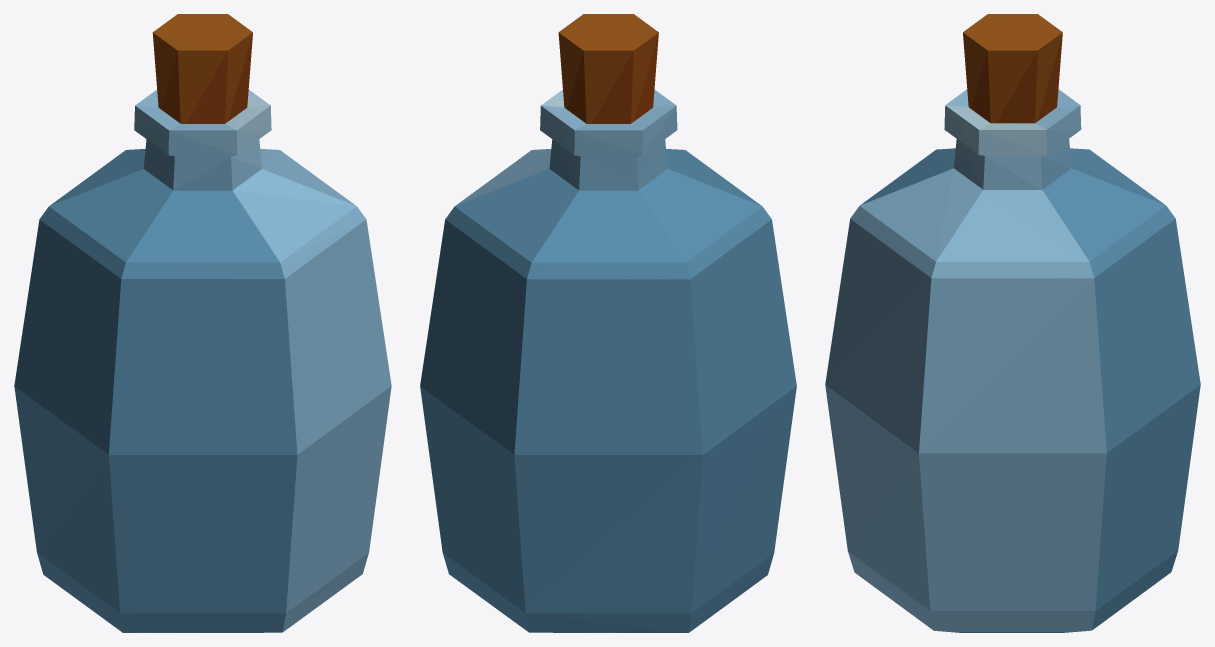
The model's file is prop_bottle_potion_empty_2.fbx.
3 views of the same model, side by side, from view 1: azimuth 30°, elevation 25°; view 2: azimuth 150°, elevation 25°; view 3: azimuth 270°, elevation 25° (orthographic).
Parts seen in each view (by area): view 1: prop_bottle_potion_empty_2; view 2: prop_bottle_potion_empty_2; view 3: prop_bottle_potion_empty_2.
Boxes of the visible parts, x1,y1,x2,y2 form: prop_bottle_potion_empty_2: (14, 14, 391, 632); prop_bottle_potion_empty_2: (420, 14, 796, 632); prop_bottle_potion_empty_2: (825, 14, 1200, 632).
Size of the model in its own units: 0.604 by 1.15 by 0.6967.
